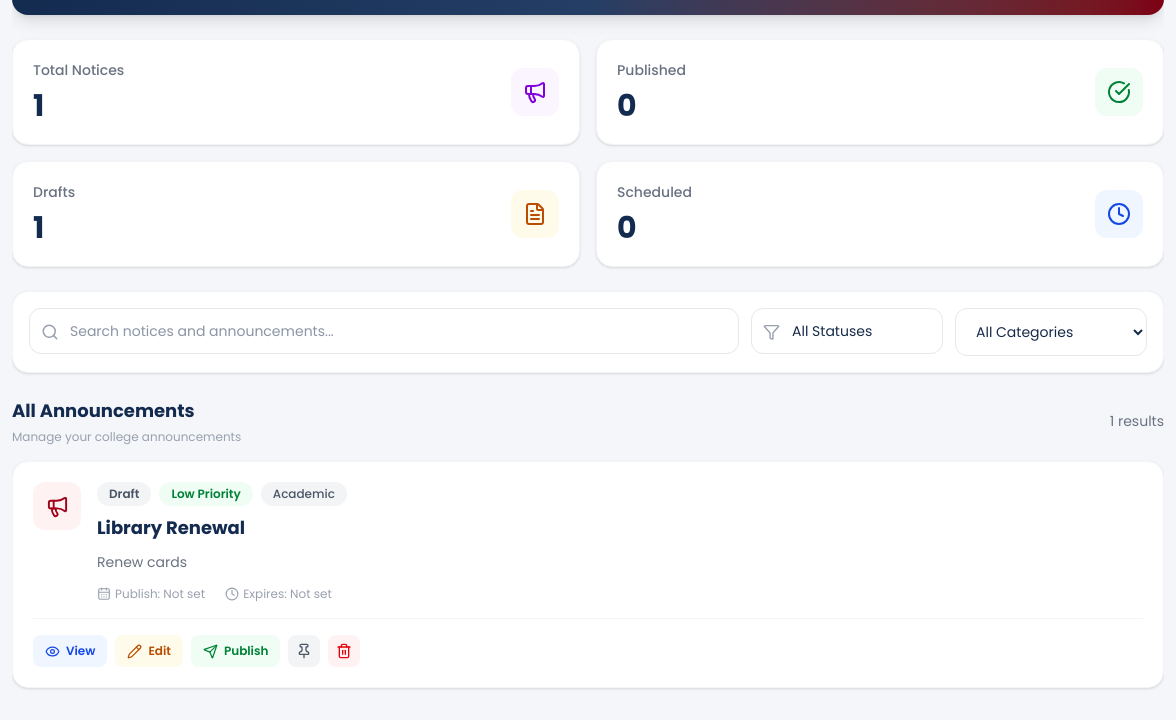
Notices & Announcements › shows stored notices with their details and publishes a draft
(page scrolled)
Expected: the heading "Library Renewal" is shown, x1=97 y1=515 x2=245 y2=540
Expected: the text "Low Priority" is shown, x1=159 y1=482 x2=253 y2=506
Click the button "Publish": (236, 651) x1=191 y1=635 x2=280 y2=667
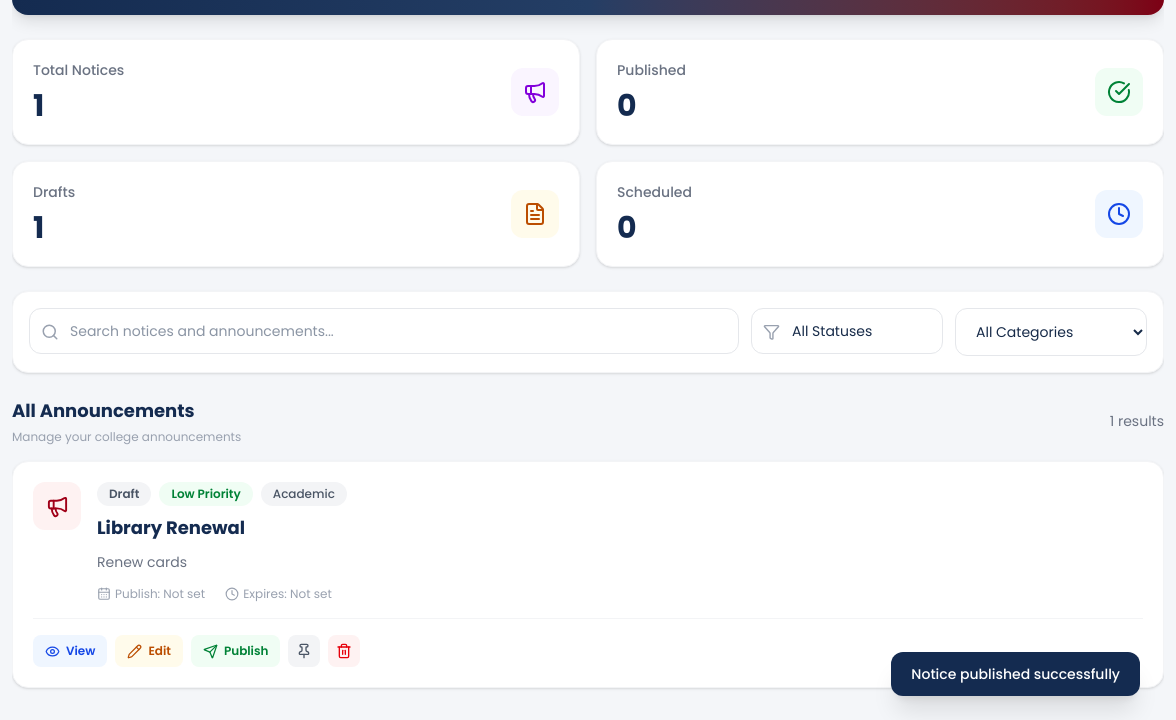
Result: the text "Notice published successfully" is shown at x1=891 y1=652 x2=1140 y2=696
